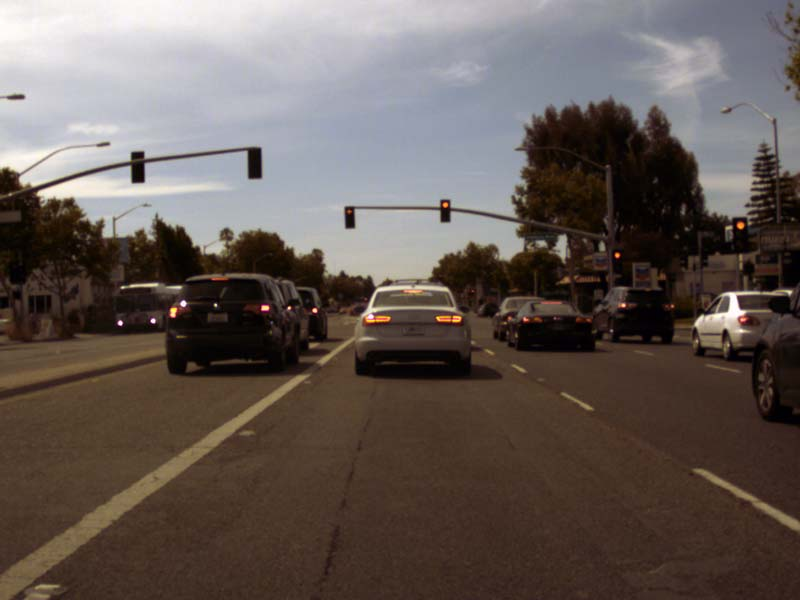Red: (731, 217, 748, 252), (612, 249, 622, 273), (440, 199, 450, 222), (344, 206, 354, 228)
